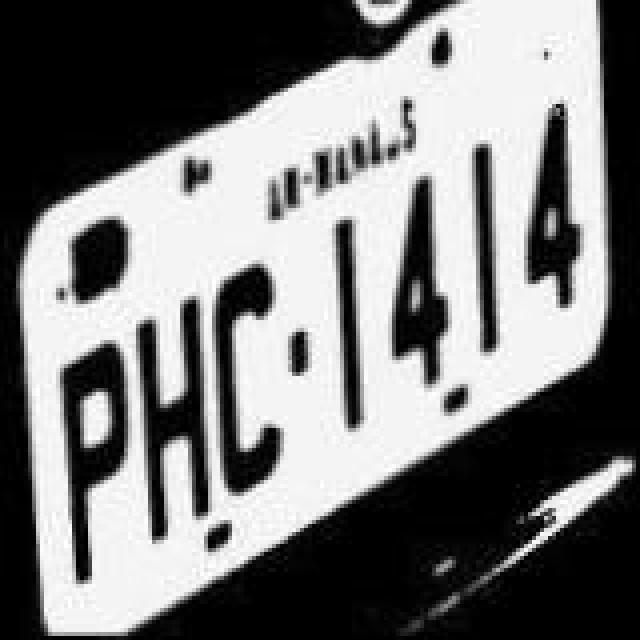1: (326, 214, 374, 498), (462, 128, 514, 376)
4: (518, 84, 586, 360), (382, 174, 454, 398)
C: (212, 258, 292, 502)
H: (132, 286, 212, 538)
P: (50, 320, 134, 612)
